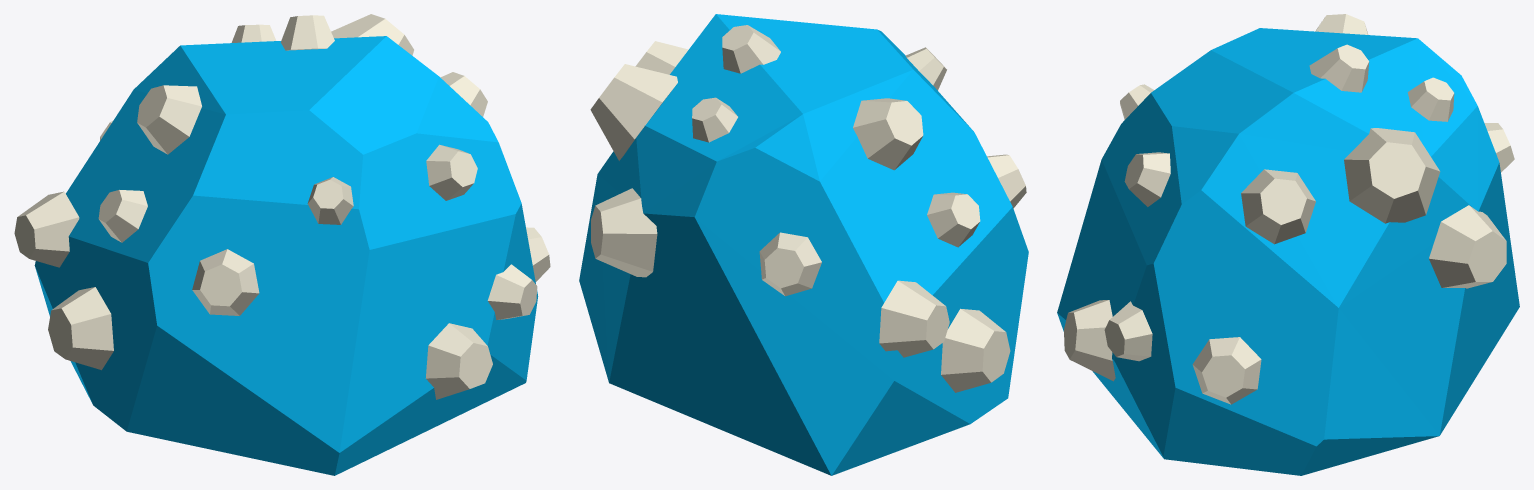
File: BarnacleRock.fbx
3 renders of one model, left to right at view 1: azimuth 30°, elevation 25°; view 2: azimuth 150°, elevation 25°; view 3: azimuth 270°, elevation 25°, orthographic. The views are drawn at different scales.
Visible parts, largest first — view 1: BarnacleRock, BarnacleRock_Barnacles; view 2: BarnacleRock, BarnacleRock_Barnacles; view 3: BarnacleRock, BarnacleRock_Barnacles.
Boxes of the visible parts, left/top/right/bottom form: BarnacleRock: left=34, top=36, right=538, bottom=475; BarnacleRock_Barnacles: left=14, top=14, right=550, bottom=399; BarnacleRock: left=579, top=14, right=1028, bottom=475; BarnacleRock_Barnacles: left=590, top=25, right=1026, bottom=392; BarnacleRock: left=1057, top=28, right=1519, bottom=475; BarnacleRock_Barnacles: left=1064, top=14, right=1514, bottom=404.
Size of the model in its own units: 8.78 by 6.62 by 8.02.
